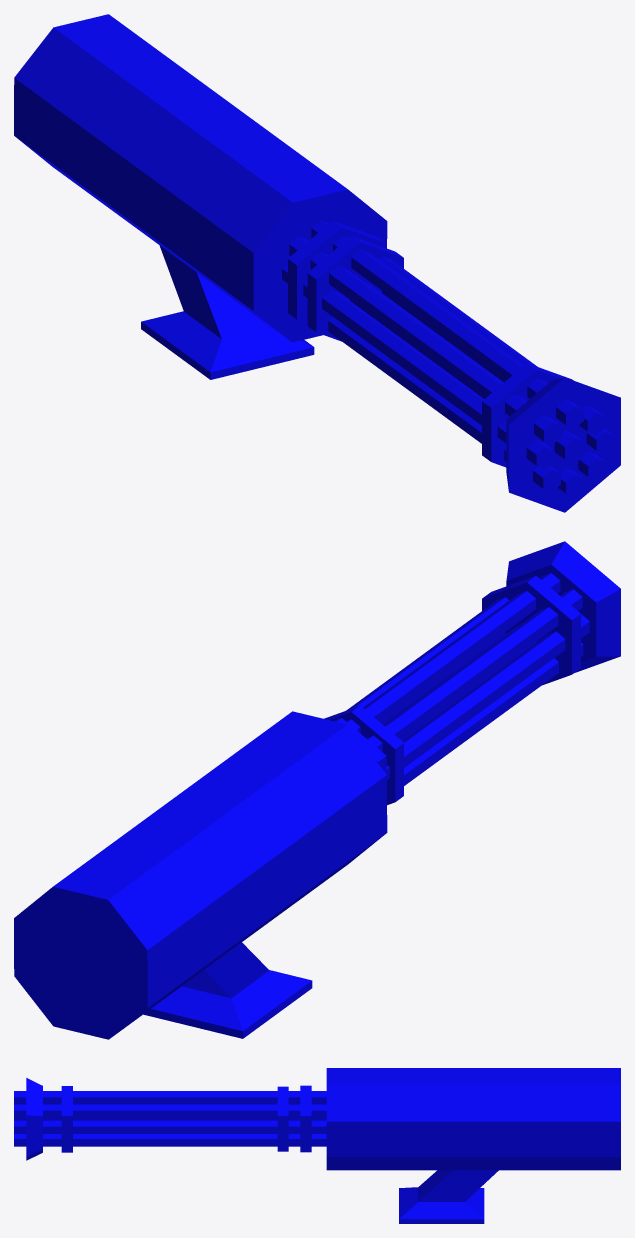
The model's file is AW_Gun_third.fbx.
The picture shows the model from 3 angles, top to bottom: view 1: azimuth 30°, elevation 25°; view 2: azimuth 150°, elevation 25°; view 3: azimuth 270°, elevation 25°; orthographic projection. The views are drawn at different scales.
Parts seen in each view (by area): view 1: Cube.002; view 2: Cube.002; view 3: Cube.002.
Boxes of the visible parts, x1=… form: Cube.002: x1=14, y1=14, x2=620, y2=512; Cube.002: x1=14, y1=541, x2=620, y2=1039; Cube.002: x1=14, y1=1068, x2=620, y2=1223.
Bounding box in the file's own units: 0.6442 × 0.9887 × 4.13.
